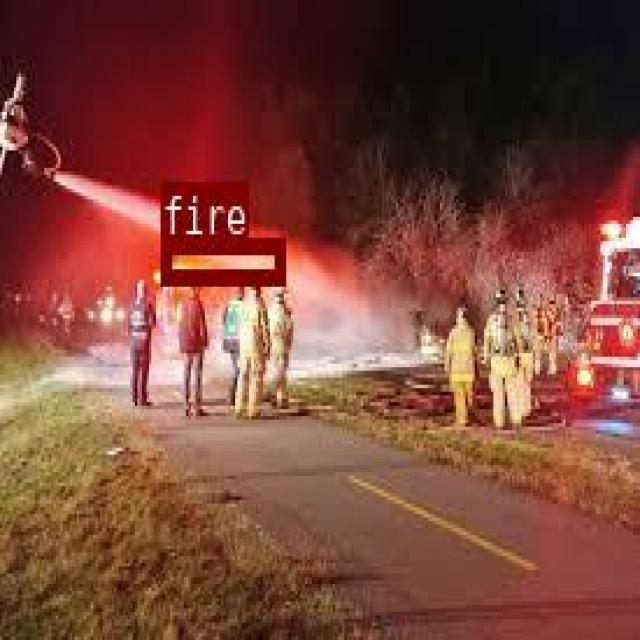fire: (159, 236, 284, 283)
